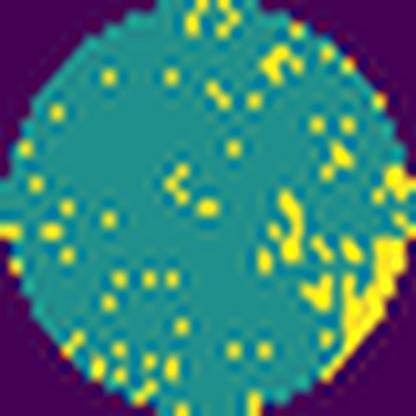Edge-Loc: (316, 229, 415, 385)
